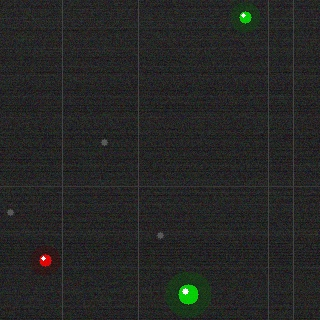green_normal: (176, 282, 200, 306), (237, 9, 253, 25)
red_fault: (37, 252, 53, 268)
